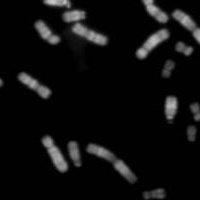chromosome: (86, 144, 137, 184), (173, 9, 200, 50), (136, 28, 170, 59), (41, 136, 68, 172), (17, 72, 50, 98), (71, 22, 108, 45), (138, 0, 168, 23), (33, 19, 60, 44), (68, 140, 81, 167), (163, 97, 178, 119), (62, 9, 84, 22), (143, 188, 164, 200), (176, 42, 192, 56), (161, 60, 174, 77), (43, 0, 70, 8), (189, 103, 200, 122), (187, 125, 197, 140), (0, 74, 3, 88)
